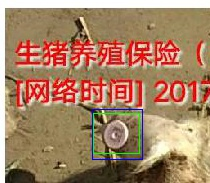text: (93, 113, 139, 153)
